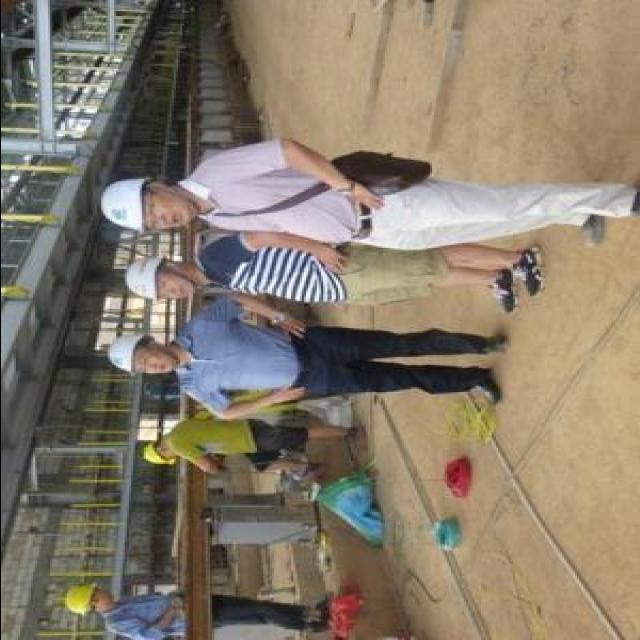helmet: (100, 172, 150, 236), (119, 252, 165, 308), (105, 327, 144, 379), (58, 576, 99, 622), (138, 436, 170, 468)
